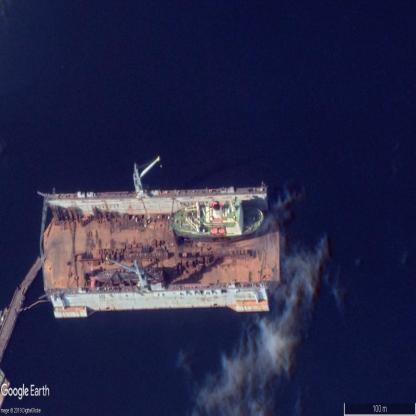ship: (173, 199, 268, 237)
